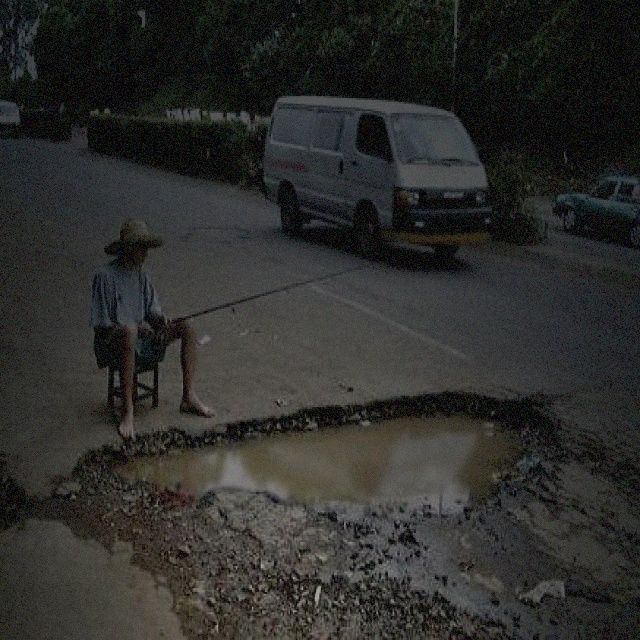pothole: (73, 376, 552, 538)
